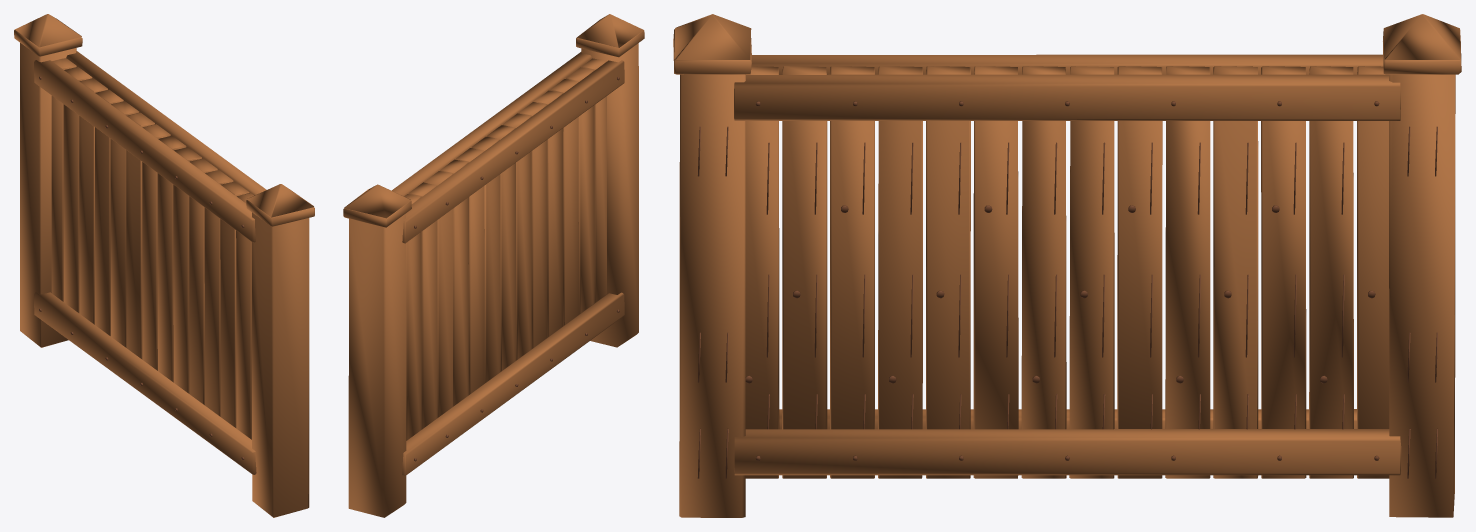
File: prop.privacy-fence.lod1.glb
The picture shows the model from 3 angles, left to right: view 1: azimuth 30°, elevation 25°; view 2: azimuth 150°, elevation 25°; view 3: azimuth 270°, elevation 25°; orthographic projection. The views are drawn at different scales.
Visible parts, largest first — view 1: body; view 2: body; view 3: body, object 1.
Part boxes in pixels (left/top/right/bottom): body: left=14, top=14, right=314, bottom=517; body: left=343, top=14, right=644, bottom=517; body: left=673, top=14, right=1461, bottom=517; object 1: left=697, top=101, right=1437, bottom=478.
Bounding box in the file's own units: 0.27 × 1.8 × 2.6.
